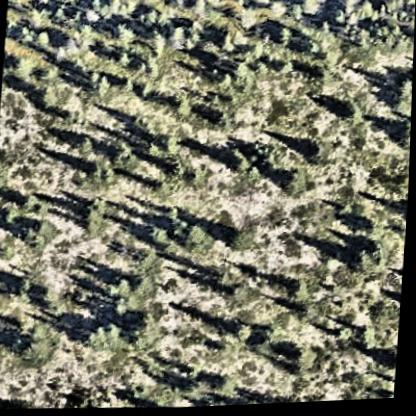tree-top: (103, 315, 152, 357), (15, 330, 56, 372), (75, 199, 111, 239), (342, 247, 378, 283), (178, 223, 213, 259), (124, 314, 156, 352), (82, 321, 118, 352), (277, 168, 309, 202), (18, 218, 50, 252), (222, 64, 255, 94), (224, 148, 253, 182), (389, 76, 413, 115), (285, 346, 315, 377), (223, 230, 255, 258), (200, 6, 229, 35), (223, 285, 250, 315), (182, 377, 212, 403), (212, 375, 239, 402), (335, 104, 363, 130), (296, 0, 328, 22), (229, 322, 255, 348), (301, 144, 326, 171), (162, 24, 186, 52), (67, 132, 93, 157), (286, 280, 310, 306), (392, 127, 412, 156), (32, 88, 56, 110), (31, 28, 53, 52), (355, 325, 377, 348), (75, 4, 96, 28), (112, 26, 136, 46), (17, 194, 38, 216), (10, 395, 36, 410), (164, 158, 182, 179), (246, 0, 273, 10), (397, 0, 416, 14)
